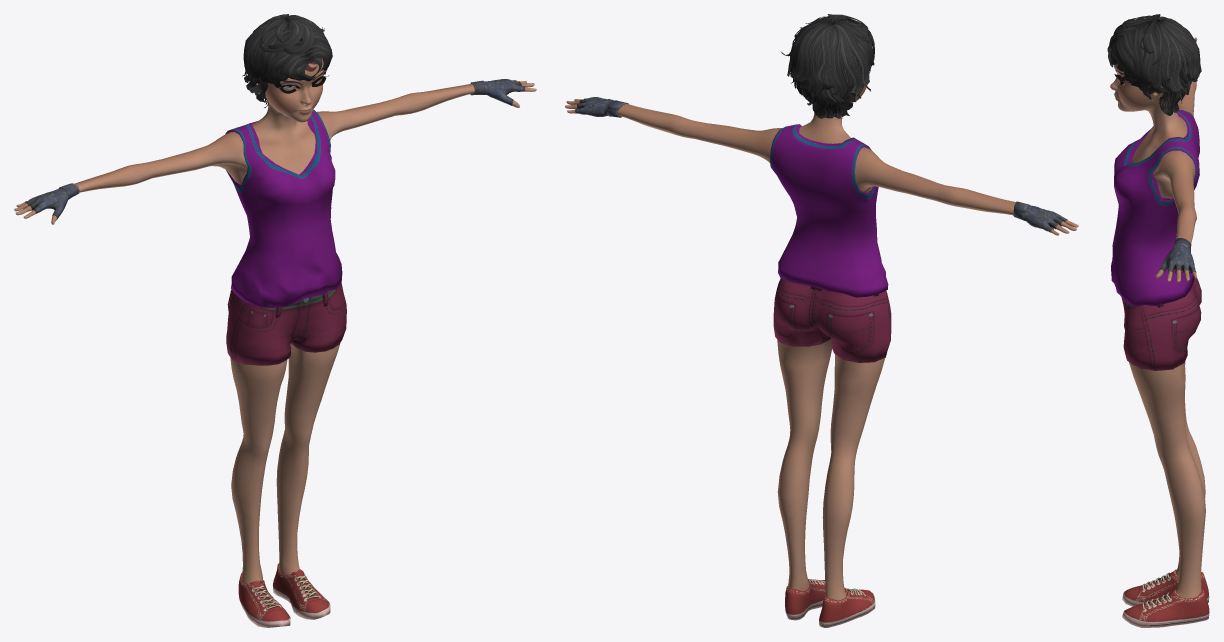
The model's file is ToonFemale1.obj.
The picture shows the model from 3 angles, left to right: view 1: azimuth 30°, elevation 25°; view 2: azimuth 150°, elevation 25°; view 3: azimuth 270°, elevation 25°; orthographic projection.
Parts seen in each view (by area): view 1: Body, Tops, Bottoms, Hair, Shoes, Gloves; view 2: Body, Tops, Bottoms, Hair, Shoes, Gloves; view 3: Body, Tops, Hair, Bottoms, Shoes, Gloves.
Part boxes in pixels (x1,y1,x2,y2): Body: [14, 58, 536, 583]; Tops: [225, 110, 342, 307]; Bottoms: [226, 284, 346, 365]; Hair: [242, 14, 332, 107]; Shoes: [238, 563, 330, 627]; Gloves: [25, 79, 525, 219]; Body: [565, 84, 1078, 600]; Tops: [770, 124, 888, 297]; Bottoms: [773, 278, 891, 362]; Hair: [780, 14, 874, 118]; Shoes: [785, 579, 875, 627]; Gloves: [575, 97, 1067, 232]; Body: [1110, 37, 1205, 598]; Tops: [1111, 110, 1199, 306]; Hair: [1107, 14, 1201, 115]; Bottoms: [1121, 278, 1201, 370]; Shoes: [1122, 569, 1209, 627]; Gloves: [1159, 39, 1196, 273].
Bounding box in the file's own units: 153 × 168 × 26.15.
